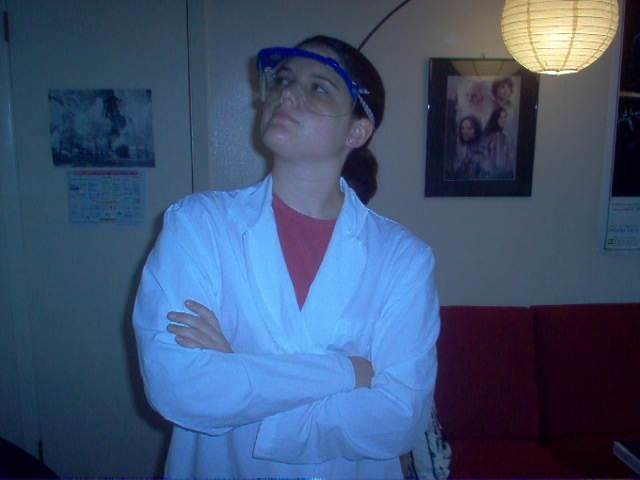face_no_mask: (258, 33, 366, 166)
